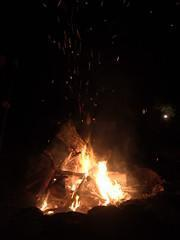fire: (26, 138, 144, 221)
